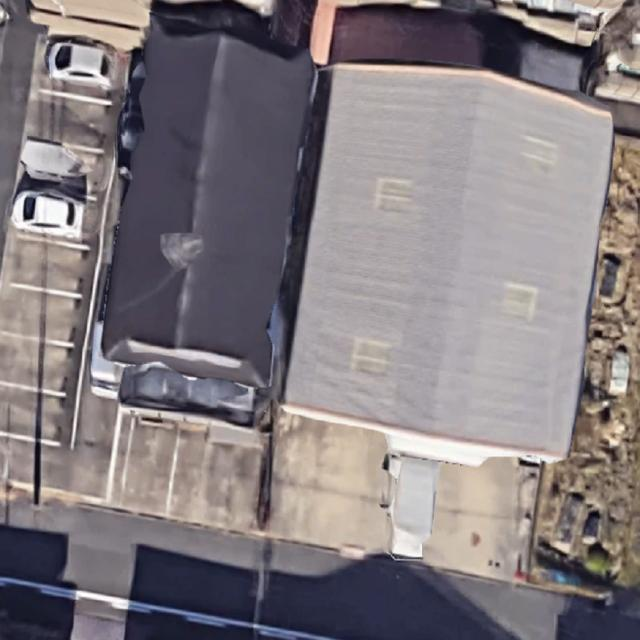Batiment: (285, 64, 612, 460), (102, 4, 314, 388)
